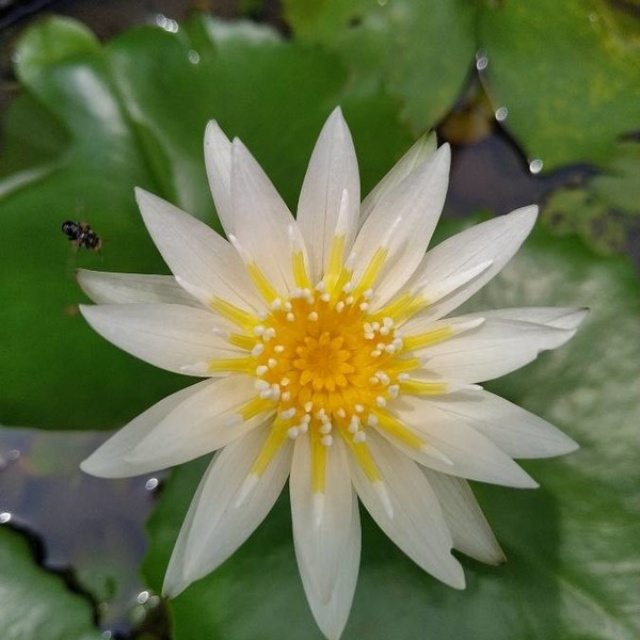obstacle: (49, 70, 580, 637)
